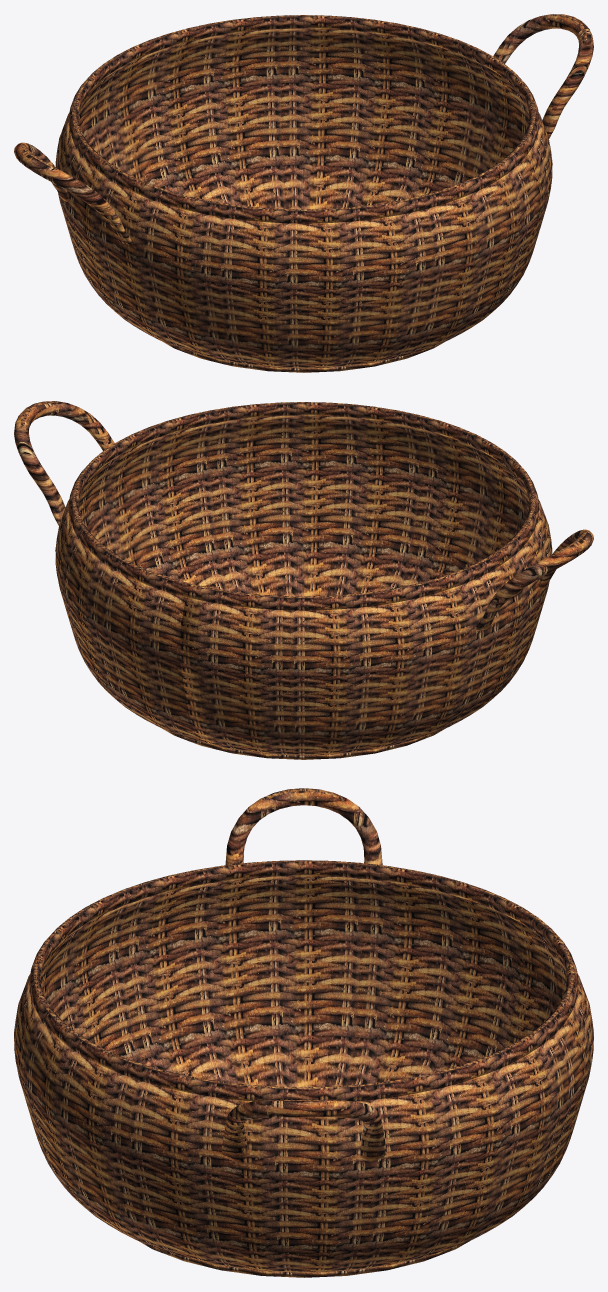
The model's file is basket_fbx.FBX.
3 views of the same model, one above another, from view 1: azimuth 30°, elevation 25°; view 2: azimuth 150°, elevation 25°; view 3: azimuth 270°, elevation 25° (orthographic). The views are drawn at different scales.
Visible parts, largest first — view 1: default; view 2: default; view 3: default.
Part boxes in pixels (x1,y1,x2,y2): default: (14,14,593,372); default: (14,401,593,759); default: (14,788,593,1277).
Bounding box in the file's own units: 78.97 × 28.65 × 60.67.
